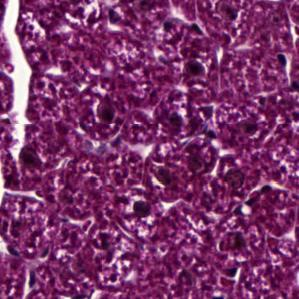inflammation: (94, 92, 123, 128), (122, 192, 154, 224), (180, 56, 210, 86)
